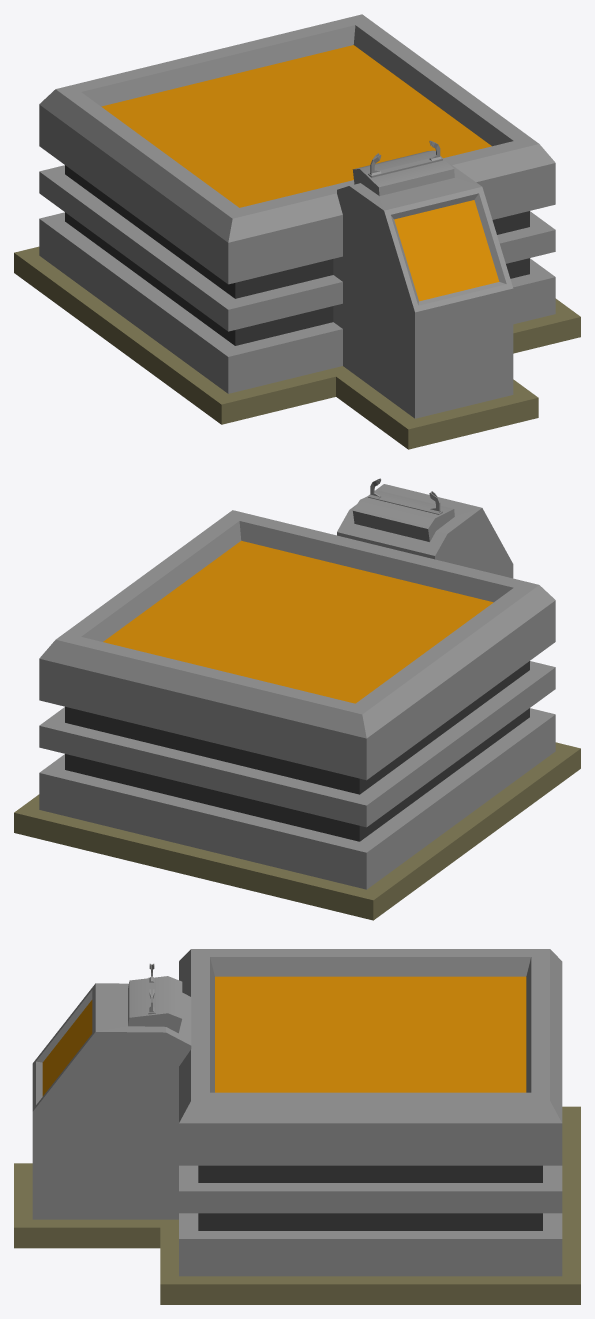
Rendered from World_Editor_Console.FBX.
3 views of the same model, one above another, from view 1: azimuth 30°, elevation 25°; view 2: azimuth 150°, elevation 25°; view 3: azimuth 270°, elevation 25° (orthographic).
Visible parts, largest first — view 1: Box001, Box003; view 2: Box001, Box003; view 3: Box001.
Part boxes in pixels (<box>): Box001: <box>14,14,580,449</box>; Box003: <box>368,140,442,177</box>; Box001: <box>14,484,580,920</box>; Box003: <box>368,478,442,514</box>; Box001: <box>14,949,580,1304</box>.
Size of the model in its own units: 2.2 by 2.96 by 1.38.
